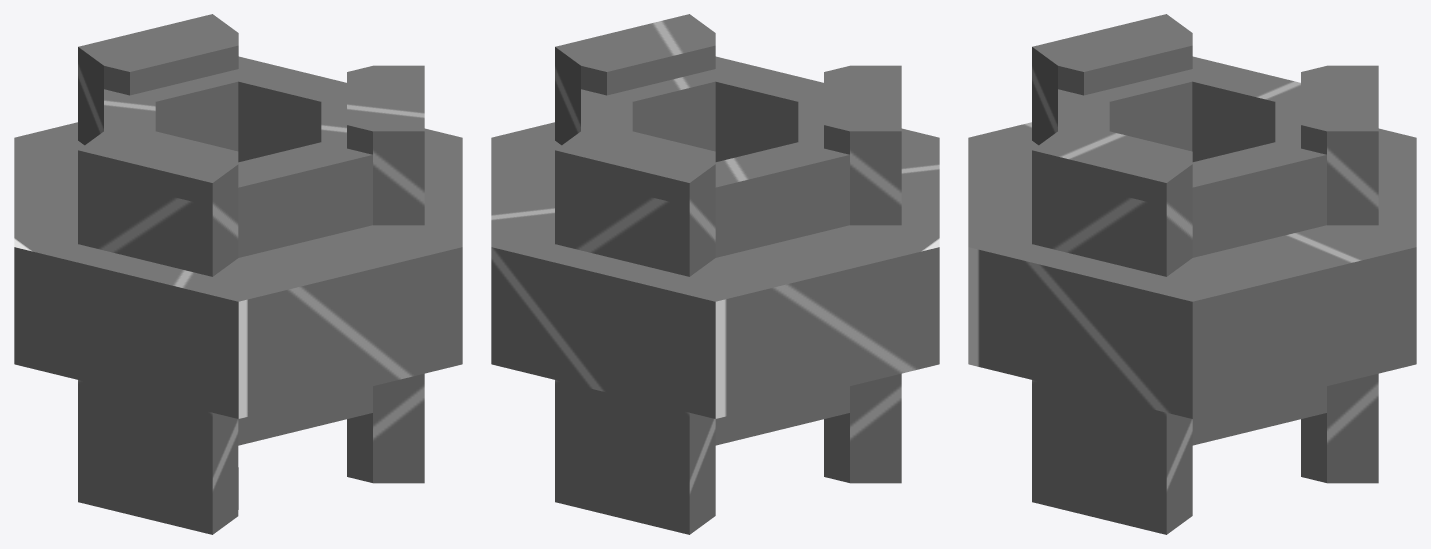
Rendered from XOLOTL-79-Upper-Hull.obj.
3 views of the same model, side by side, from view 1: azimuth 30°, elevation 25°; view 2: azimuth 150°, elevation 25°; view 3: azimuth 270°, elevation 25° (orthographic).
Visible parts, largest first — view 1: XOLOTL-79-Upper-Hull; view 2: XOLOTL-79-Upper-Hull; view 3: XOLOTL-79-Upper-Hull.
Boxes of the visible parts, x1=… form: XOLOTL-79-Upper-Hull: x1=14, y1=14, x2=462, y2=534; XOLOTL-79-Upper-Hull: x1=491, y1=14, x2=939, y2=534; XOLOTL-79-Upper-Hull: x1=968, y1=14, x2=1416, y2=534.
Bounding box in the file's own units: 1 × 0.75 × 0.866.
